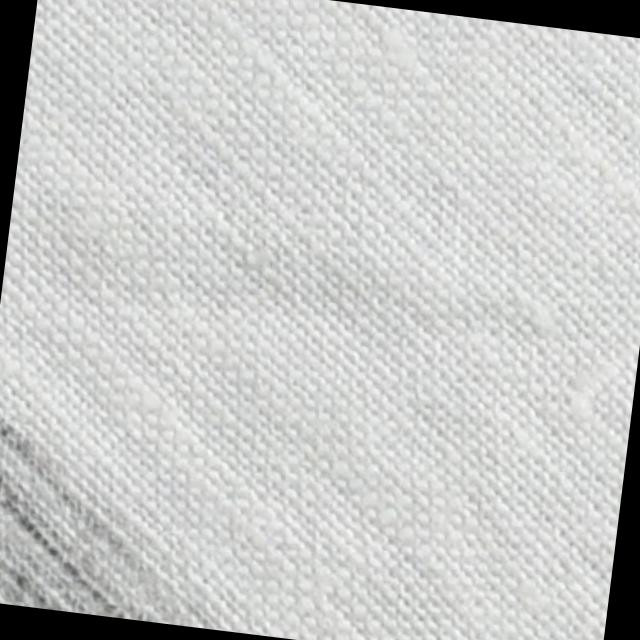Stain: (0, 390, 265, 632)
